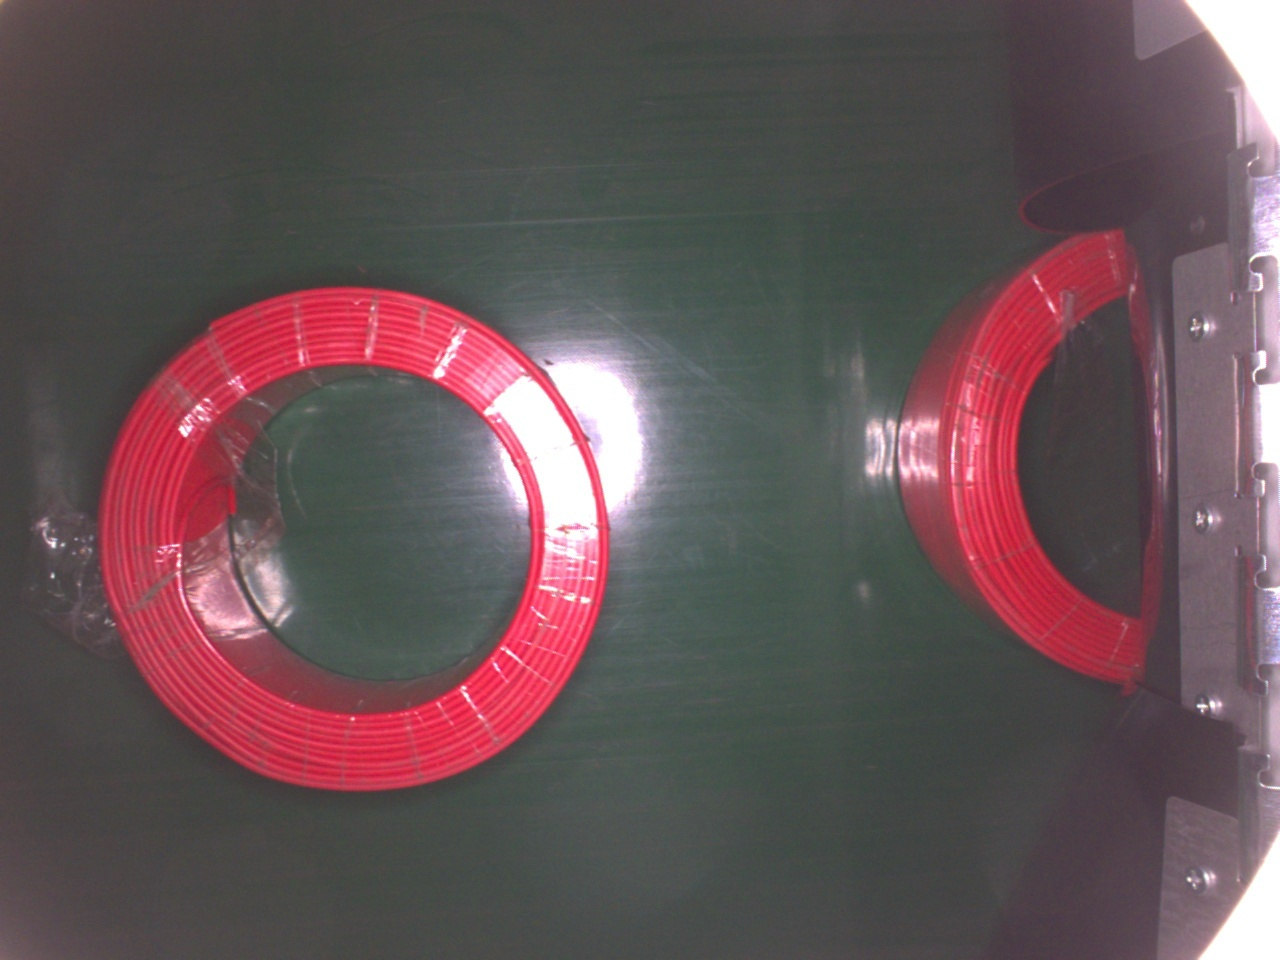red: (98, 281, 607, 790), (893, 224, 1154, 690)
